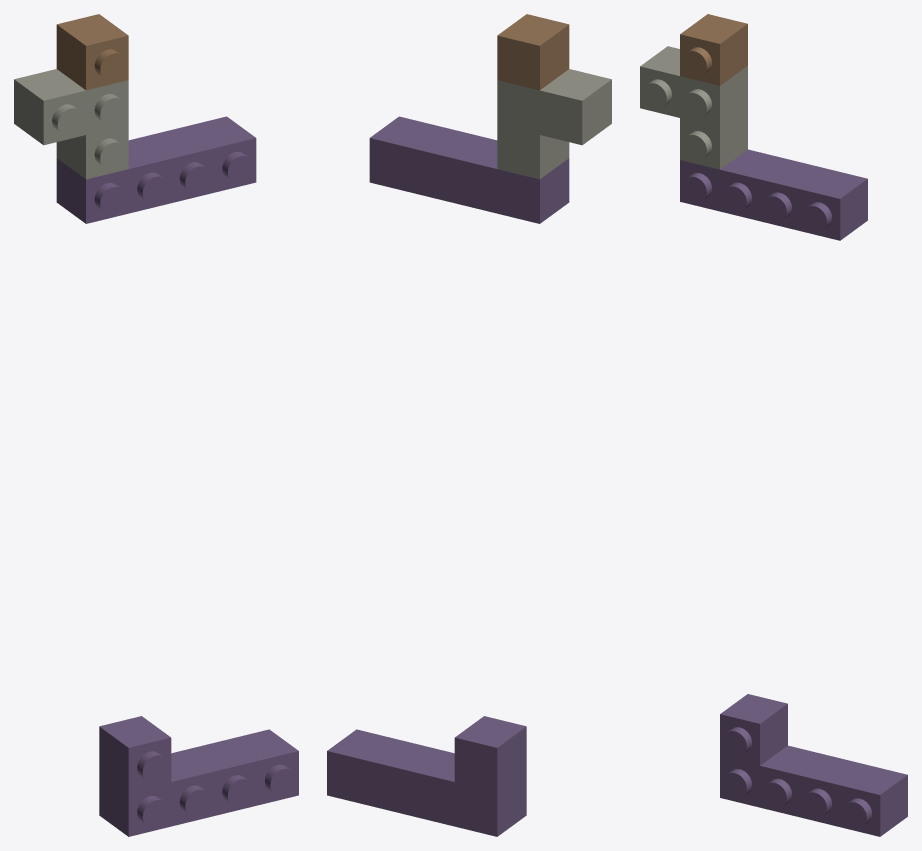
The model's file is current.glb.
3 views of the same model, side by side, from view 1: azimuth 30°, elevation 25°; view 2: azimuth 150°, elevation 25°; view 3: azimuth 330°, elevation 25° (orthographic). The views are drawn at different scales.
Parts seen in each view (by area): view 1: world; view 2: world; view 3: world.
Part boxes in pixels (left/top/right/bottom): world: left=14, top=14, right=298, bottom=836; world: left=327, top=14, right=611, bottom=836; world: left=640, top=14, right=907, bottom=836.
Size of the model in its own units: 48 by 144 by 11.4.
